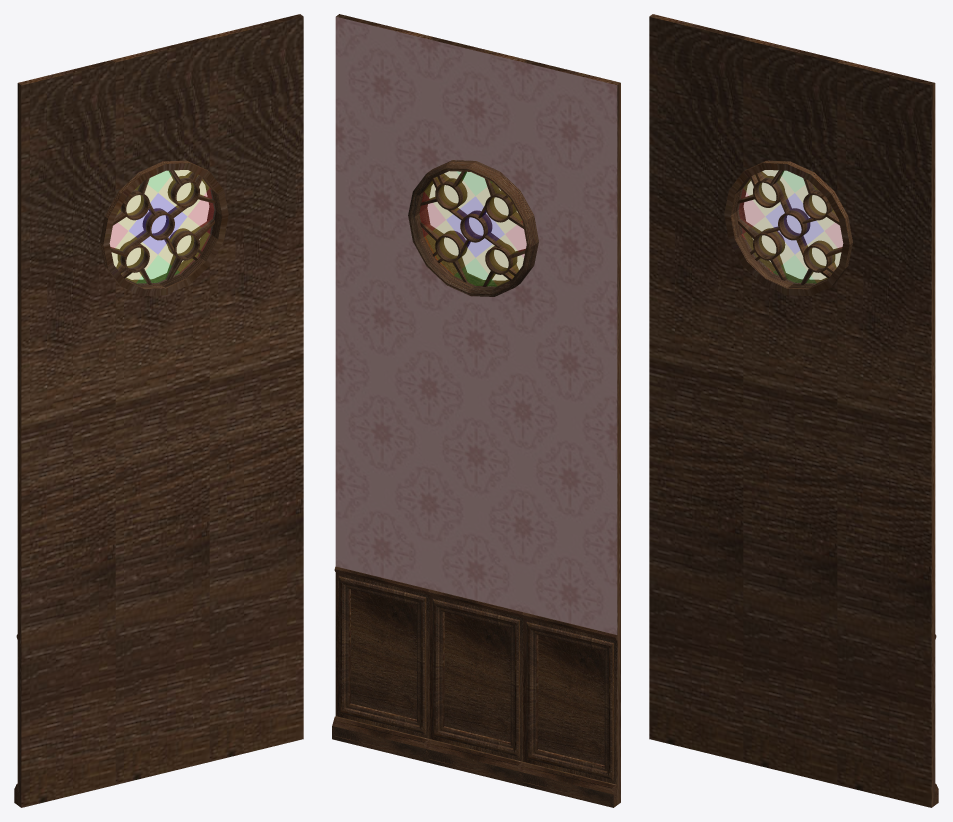
File: Mur_Fille_Vitrail.fbx
3 views of the same model, side by side, from view 1: azimuth 30°, elevation 25°; view 2: azimuth 150°, elevation 25°; view 3: azimuth 330°, elevation 25° (orthographic).
Visible parts, largest first — view 1: Cube, Cylinder; view 2: Cube, Cylinder; view 3: Cube, Cylinder.
Part boxes in pixels (x1,y1,x2,y2): Cube: (14, 14, 303, 807); Cylinder: (100, 160, 228, 295); Cube: (332, 14, 620, 807); Cylinder: (408, 160, 538, 296); Cube: (649, 14, 938, 807); Cylinder: (724, 160, 852, 295).
Bounding box in the file's own units: 450 × 1100 × 40.
